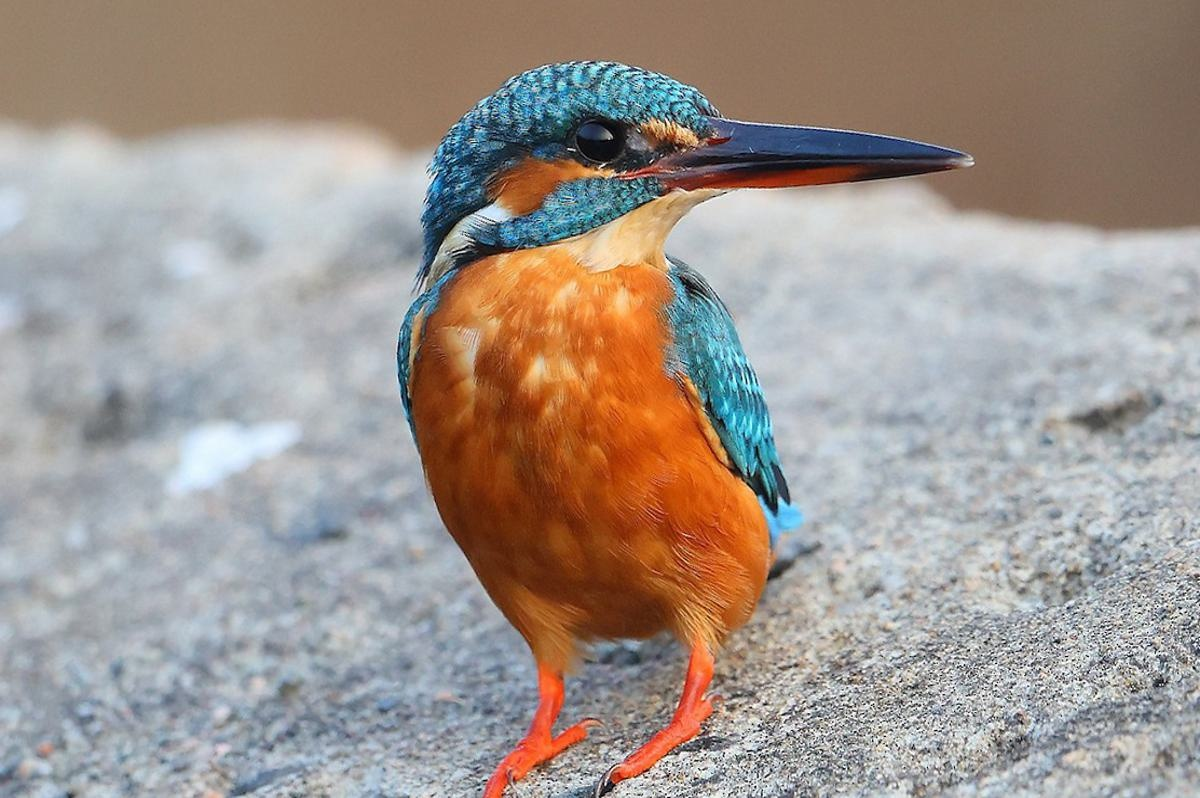kingfisher: (410, 55, 999, 780)
